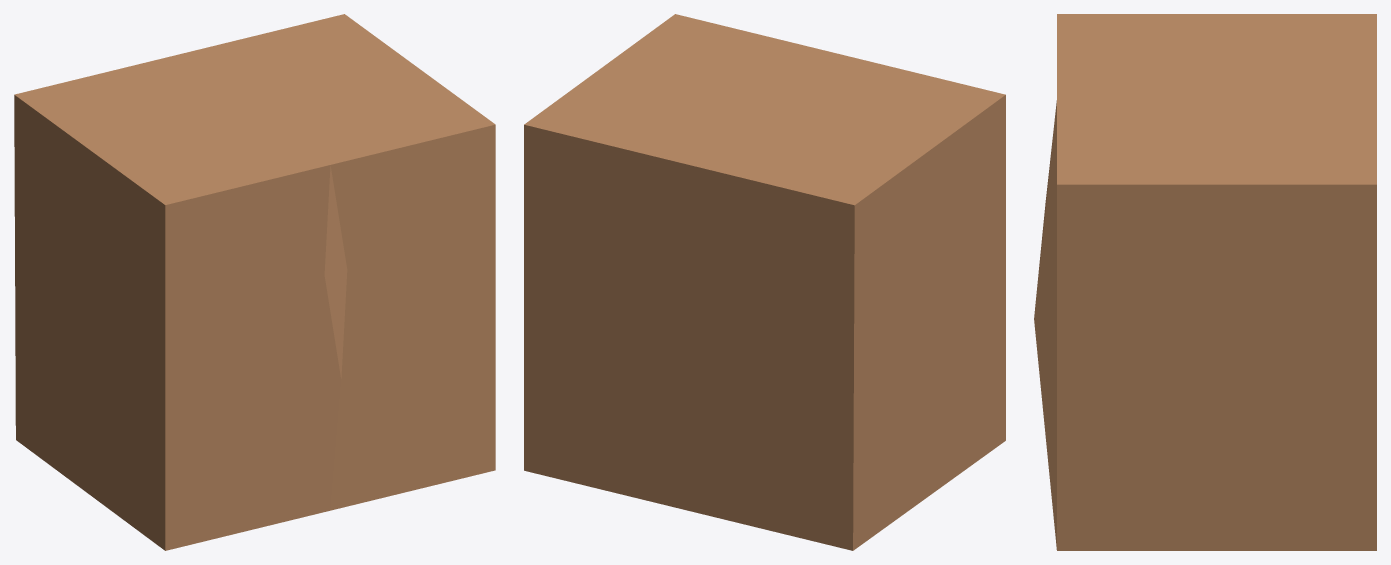
The model's file is Edge_side_part.fbx.
3 renders of one model, left to right at view 1: azimuth 30°, elevation 25°; view 2: azimuth 150°, elevation 25°; view 3: azimuth 270°, elevation 25°, orthographic. The views are drawn at different scales.
Parts seen in each view (by area): view 1: Cube.135, Cube.140; view 2: Cube.135, Cube.140; view 3: Cube.135, Cube.140.
Part boxes in pixels (x1,y1,x2,y2): Cube.135: [14, 14, 495, 550]; Cube.140: [16, 14, 493, 503]; Cube.135: [524, 14, 1005, 550]; Cube.140: [528, 14, 1003, 550]; Cube.135: [1034, 14, 1376, 550]; Cube.140: [1034, 15, 1376, 311].
Bounding box in the file's own units: 1 × 0.8487 × 1.
1 material, 1 textured.
